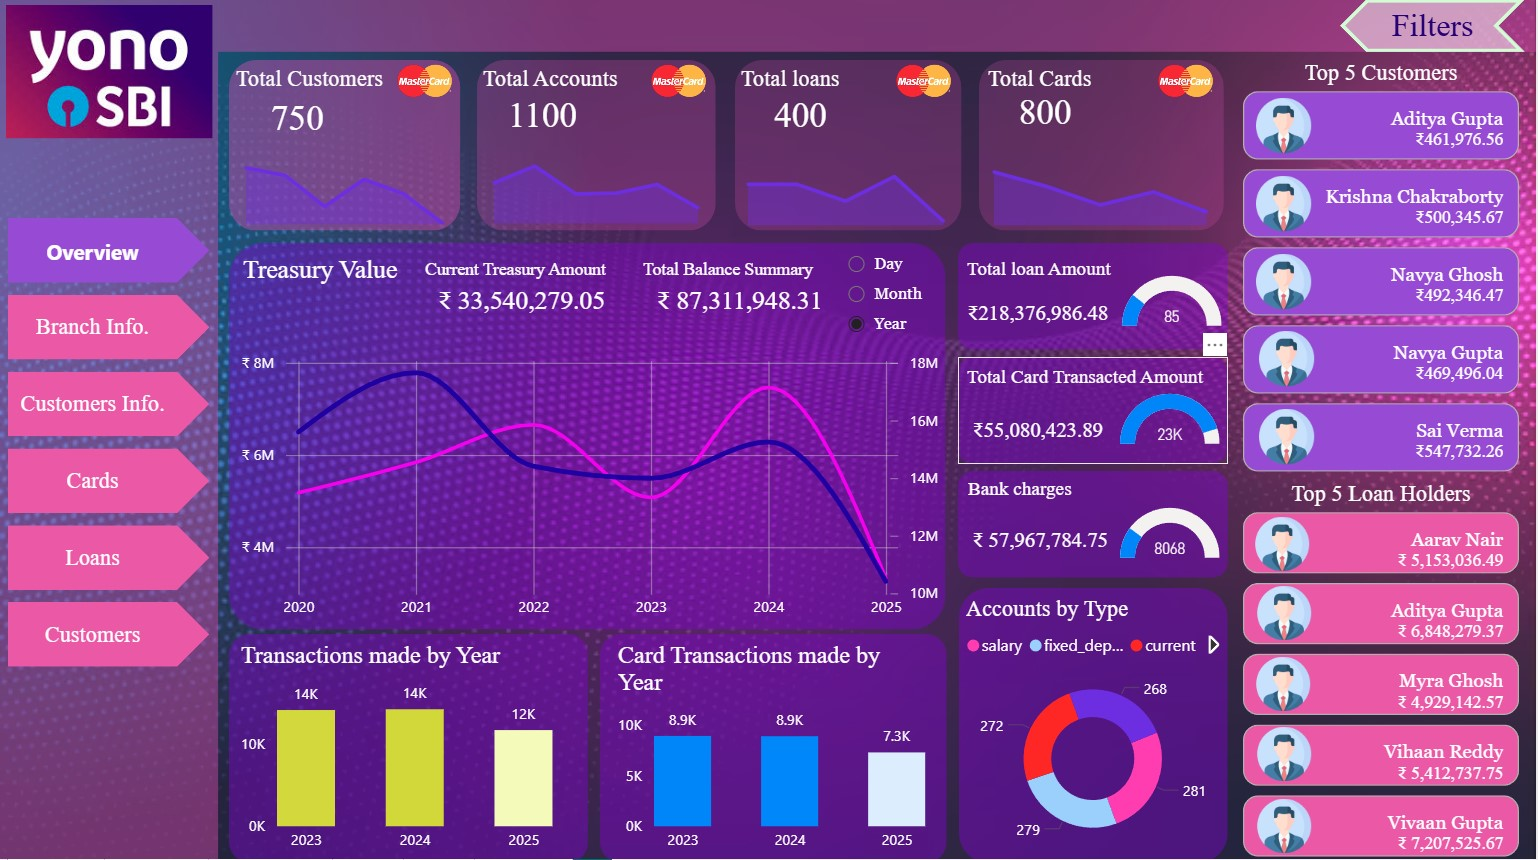

The dashboard page shown, as its layout file describes it:
{"tool":"powerbi","page":{"name":"Overview","canvas":[1280,720],"ordinal":0},"visuals":[{"type":"shape","box":[0,0,181.8,720],"z":0},{"type":"shape","box":[190.7,50.5,192.7,142.2],"z":1000},{"type":"shape","box":[397.8,50.5,198.9,142.2],"z":2000},{"type":"shape","box":[612.2,50.5,188.6,142.2],"z":3000},{"type":"shape","box":[816.2,50.5,204.1,142.2],"z":4000},{"type":"card","fields":{"Values":["public customers.No of Customers"]},"box":[191.7,75.2,112.3,47.4],"z":5000},{"type":"textbox","box":[191.7,50.5,148.4,36.1],"z":6000},{"type":"image","box":[303,44.3,101,48.4],"z":7000},{"type":"textbox","box":[397.8,50.5,148.4,36.1],"z":8000},{"type":"textbox","box":[612.2,50.5,112.3,36.1],"z":9000},{"type":"shape","box":[190.5,203.7,597.1,322.2],"z":10000},{"type":"textbox","box":[818.3,50.5,148.4,36.1],"z":11000},{"type":"card","fields":{"Values":["public accounts.No of accounts"]},"box":[397.8,75.2,109.2,41.2],"z":12000},{"type":"card","fields":{"Values":["public loans.No of loans"]},"box":[612.2,75.2,109.2,41.2],"z":13000},{"type":"card","fields":{"Values":["public cards.No of cards"]},"box":[816.2,72.1,110.3,41.2],"z":14000},{"type":"lineChart","fields":{"Category":["public accounts.Year"],"Y":["account balance.Treasury amount"],"Y2":["Sum(account balance.public accounts.balance)"]},"box":[196.9,289.2,590.6,236],"z":15000},{"type":"textbox","box":[197.6,208.1,142.2,36.9],"z":16000},{"type":"slicer","fields":{"Values":["period slicer.period slicer"]},"box":[693.8,203.7,94.8,88.7],"z":17000},{"type":"card","fields":{"Values":["account balance.Treasury amount"]},"box":[349.3,230.9,171.2,41.3],"z":18000},{"type":"card","fields":{"Values":["account balance.Balance value"]},"box":[531.1,230.9,171.2,41.3],"z":19000},{"type":"textbox","box":[349.3,210.7,160.7,31.6],"z":20000},{"type":"textbox","box":[531.1,210.7,160.7,31.6],"z":21000},{"type":"shape","box":[190.5,529.5,299.4,190.5],"z":22000},{"type":"shape","box":[499.6,529.5,288.9,190.5],"z":23000},{"type":"clusteredColumnChart","title":"Transactions made by Year","fields":{"Y":["public transactions.total transaction"],"Category":["public transactions.Year"]},"box":[195.8,534.7,269.6,184.4],"z":24000},{"type":"clusteredColumnChart","title":"Card Transactions made by Year","fields":{"Category":["public card_transactions.Year"],"Y":["public card_transactions.total card transaction"]},"box":[510.1,534.7,266,184.4],"z":25000},{"type":"shape","box":[798.3,203.7,224.8,88.7],"z":26000},{"type":"shape","box":[798.1,298.5,224.8,88.7],"z":27000},{"type":"shape","box":[798.1,393.4,224.8,88.7],"z":28000},{"type":"gauge","fields":{"Y":["public loans.Total closed loans"],"MaxValue":["public loans.No of loans"]},"box":[929.9,214.2,93.1,74.6],"z":29000},{"type":"card","fields":{"Values":["public loans.total loan amount"]},"box":[799,245,131.7,35.1],"z":30000},{"type":"textbox","box":[800.8,210.7,160.7,31.6],"z":31000},{"type":"gauge","fields":{"MaxValue":["public card_transactions.total card transaction"],"Y":["public card_transactions.total card purchasing"]},"box":[928.1,312.6,93.1,74.6],"z":32000},{"type":"card","fields":{"Values":["public card_transactions.total card transaction amount"]},"box":[799,342.4,131.7,35.1],"z":33000},{"type":"textbox","box":[800.8,301.2,222.1,30.7],"z":34000},{"type":"card","fields":{"Values":["public transactions.bank charges"]},"box":[804.3,433.8,125.6,35.1],"z":35000},{"type":"gauge","fields":{"MaxValue":["public transactions.total transaction"],"Y":["public transactions.total bank charges transactions"]},"box":[928.1,407.4,93.1,74.6],"z":36000},{"type":"textbox","box":[801.7,394.2,128.2,30.7],"z":37000},{"type":"shape","box":[799,490.8,223.9,229.2],"z":38000},{"type":"donutChart","title":"Accounts by Type","fields":{"Y":["public accounts.No of accounts"],"Category":["public accounts.account_type"]},"box":[799.9,497.9,221.3,221.3],"z":39000},{"type":"lineChart","fields":{"Category":["public customers.Year"],"Y":["public customers.No of Customers"]},"box":[189.6,108.2,193.8,84.5],"z":40000},{"type":"lineChart","fields":{"Category":["public accounts.Year"],"Y":["public accounts.No of accounts"]},"box":[396.8,120.6,199.9,71.1],"z":41000},{"type":"lineChart","fields":{"Category":["public loans.Year"],"Y":["public loans.No of loans"]},"box":[608.1,122.6,192.7,71.1],"z":42000},{"type":"lineChart","fields":{"Category":["public cards.Year"],"Y":["public cards.No of cards"]},"box":[813.1,122.6,207.1,71.1],"z":43000},{"type":"advancedSlicerVisual","title":"Top 5 Customers","fields":{"Values":["account balance (2).public customers.full_name"]},"box":[1030.6,50.5,240.1,351.4],"z":44000},{"type":"image","box":[515.3,44.3,101,48.4],"z":45000},{"type":"image","box":[719.4,44.3,101,48.4],"z":46000},{"type":"image","box":[937.8,44.3,101,48.4],"z":47000},{"type":"advancedSlicerVisual","title":"Top 5 Loan Holders","fields":{"Values":["account balance (2).public customers.full_name"]},"box":[1030.6,401.9,240.1,318.5],"z":48000},{"type":"image","box":[1036.8,77.3,67,55.7],"z":49000},{"type":"image","box":[1036.8,142.2,67,55.7],"z":50000},{"type":"image","box":[1036.8,207.1,67,55.7],"z":51000},{"type":"image","box":[1038.8,272.1,67,55.7],"z":52000},{"type":"image","box":[1049.1,327.7,67,10.3],"z":53000},{"type":"image","box":[1038.8,337,67,55.7],"z":54000},{"type":"image","box":[1034.7,426.7,67,54.6],"z":55000},{"type":"image","box":[1036.8,484.4,67,54.6],"z":56000},{"type":"image","box":[1035.7,543.1,67,54.6],"z":57000},{"type":"image","box":[1036.8,601.9,67,54.6],"z":58000},{"type":"image","box":[1036.8,661.6,67,54.6],"z":59000},{"type":"image","box":[0,0,181.6,120.7],"z":60000},{"type":"shape","box":[181.6,0,1098.4,44.5],"z":61000},{"type":"pageNavigator","box":[6.4,182.5,168.9,378.6],"z":62000},{"type":"actionButton","box":[1116.6,0,154.3,44.5],"z":63000}]}

Visuals, with their boxes in screenshot pixels (x1, y1, x2, y2), scaled from the page's 1280x720 canvas onto the 1538x860 screenshot:
shape: detection(0, 0, 218, 859)
shape: detection(229, 60, 461, 230)
shape: detection(478, 60, 717, 230)
shape: detection(736, 60, 962, 230)
shape: detection(981, 60, 1226, 230)
card - public customers.No of Customers: detection(230, 90, 365, 146)
textbox: detection(230, 60, 409, 103)
image: detection(364, 53, 485, 111)
textbox: detection(478, 60, 656, 103)
textbox: detection(736, 60, 871, 103)
shape: detection(229, 243, 946, 628)
textbox: detection(983, 60, 1162, 103)
card - public accounts.No of accounts: detection(478, 90, 609, 139)
card - public loans.No of loans: detection(736, 90, 867, 139)
card - public cards.No of cards: detection(981, 86, 1113, 135)
lineChart - public accounts.Year x account balance.Treasury amount: detection(237, 345, 946, 627)
textbox: detection(237, 249, 408, 293)
slicer - period slicer.period slicer: detection(834, 243, 948, 349)
card - account balance.Treasury amount: detection(420, 276, 625, 325)
card - account balance.Balance value: detection(638, 276, 844, 325)
textbox: detection(420, 252, 613, 289)
textbox: detection(638, 252, 831, 289)
shape: detection(229, 632, 589, 859)
shape: detection(600, 632, 947, 859)
"Transactions made by Year" clusteredColumnChart: detection(235, 639, 559, 859)
"Card Transactions made by Year" clusteredColumnChart: detection(613, 639, 933, 859)
shape: detection(959, 243, 1229, 349)
shape: detection(959, 357, 1229, 462)
shape: detection(959, 470, 1229, 576)
gauge - public loans.Total closed loans x public loans.No of loans: detection(1117, 256, 1229, 345)
card - public loans.total loan amount: detection(960, 293, 1118, 335)
textbox: detection(962, 252, 1155, 289)
gauge - public card_transactions.total card transaction x public card_transactions.total card purchasing: detection(1115, 373, 1227, 462)
card - public card_transactions.total card transaction amount: detection(960, 409, 1118, 451)
textbox: detection(962, 360, 1229, 396)
card - public transactions.bank charges: detection(966, 518, 1117, 560)
gauge - public transactions.total transaction x public transactions.total bank charges transactions: detection(1115, 487, 1227, 576)
textbox: detection(963, 471, 1117, 508)
shape: detection(960, 586, 1229, 859)
"Accounts by Type" donutChart: detection(961, 595, 1227, 859)
lineChart - public customers.Year x public customers.No of Customers: detection(228, 129, 461, 230)
lineChart - public accounts.Year x public accounts.No of accounts: detection(477, 144, 717, 229)
lineChart - public loans.Year x public loans.No of loans: detection(731, 146, 962, 231)
lineChart - public cards.Year x public cards.No of cards: detection(977, 146, 1226, 231)
"Top 5 Customers" advancedSlicerVisual: detection(1238, 60, 1527, 480)
image: detection(619, 53, 741, 111)
image: detection(864, 53, 986, 111)
image: detection(1127, 53, 1248, 111)
"Top 5 Loan Holders" advancedSlicerVisual: detection(1238, 480, 1527, 859)
image: detection(1246, 92, 1326, 159)
image: detection(1246, 170, 1326, 236)
image: detection(1246, 247, 1326, 314)
image: detection(1248, 325, 1329, 392)
image: detection(1261, 391, 1341, 404)
image: detection(1248, 403, 1329, 469)
image: detection(1243, 510, 1324, 575)
image: detection(1246, 579, 1326, 644)
image: detection(1244, 649, 1325, 714)
image: detection(1246, 719, 1326, 784)
image: detection(1246, 790, 1326, 855)
image: detection(0, 0, 218, 144)
shape: detection(218, 0, 1537, 53)
pageNavigator: detection(8, 218, 211, 670)
actionButton: detection(1342, 0, 1527, 53)
